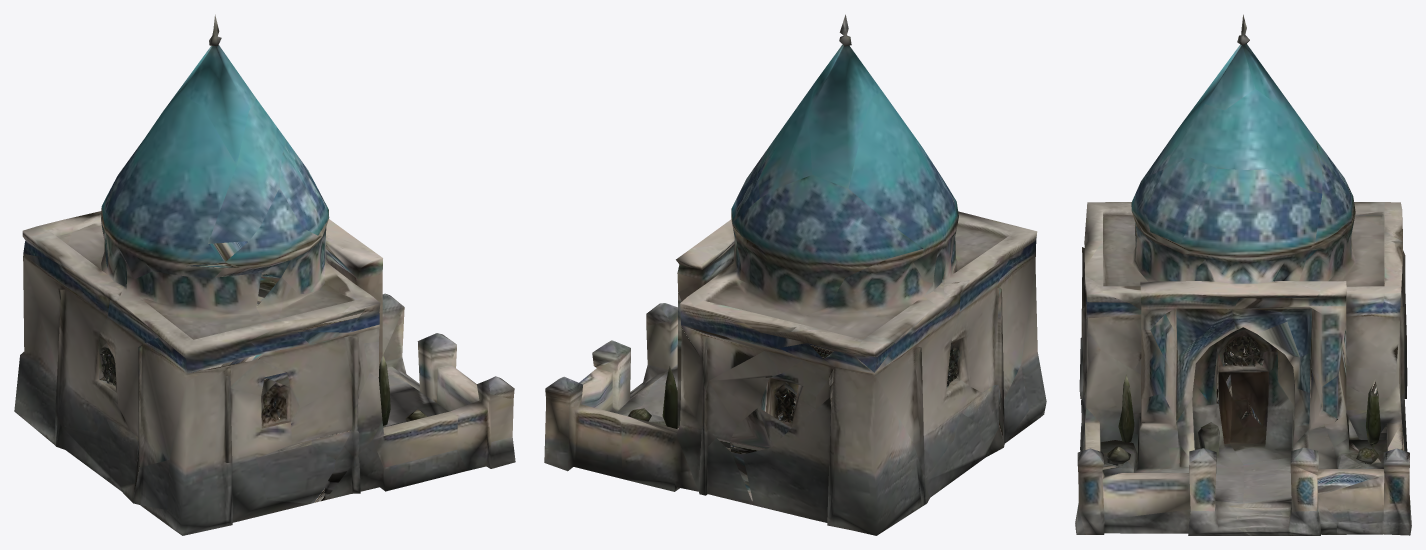
The model's file is shrine_0.glb.
The picture shows the model from 3 angles, left to right: view 1: azimuth 30°, elevation 25°; view 2: azimuth 150°, elevation 25°; view 3: azimuth 270°, elevation 25°; orthographic projection. The views are drawn at different scales.
Parts seen in each view (by area): view 1: tripo_node_4ac4a79f-f51a-41d4-a656-2c121b918e52; view 2: tripo_node_4ac4a79f-f51a-41d4-a656-2c121b918e52; view 3: tripo_node_4ac4a79f-f51a-41d4-a656-2c121b918e52.
Boxes of the visible parts, <box> form: tripo_node_4ac4a79f-f51a-41d4-a656-2c121b918e52: <box>14,14,515,535</box>; tripo_node_4ac4a79f-f51a-41d4-a656-2c121b918e52: <box>544,14,1046,535</box>; tripo_node_4ac4a79f-f51a-41d4-a656-2c121b918e52: <box>1075,14,1411,535</box>.
Size of the model in its own units: 0.7868 by 0.9835 by 0.71.
1 material, 1 textured.
